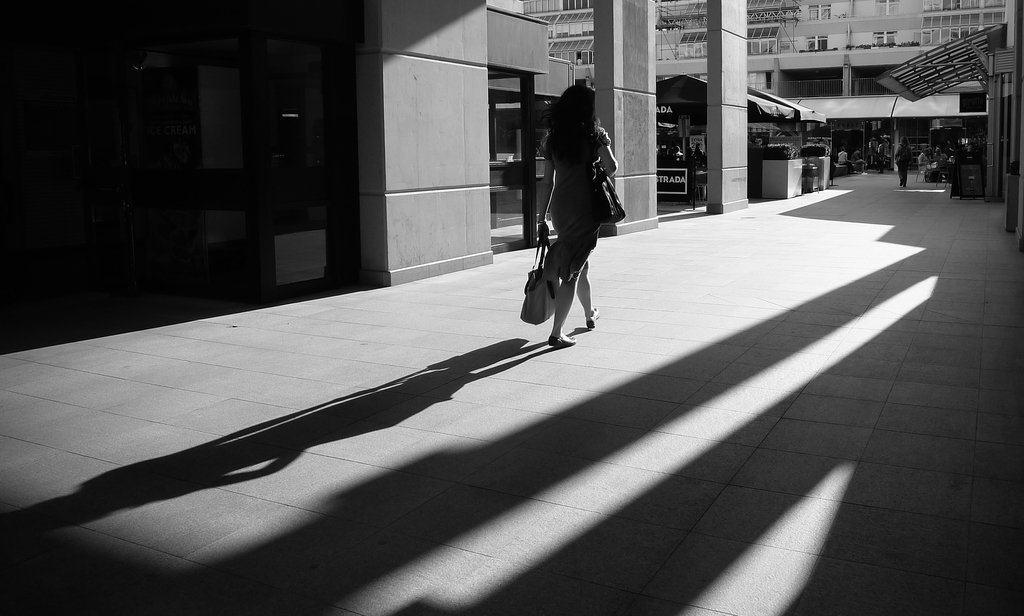Footwear: (580, 309, 598, 325), (548, 334, 575, 344)
